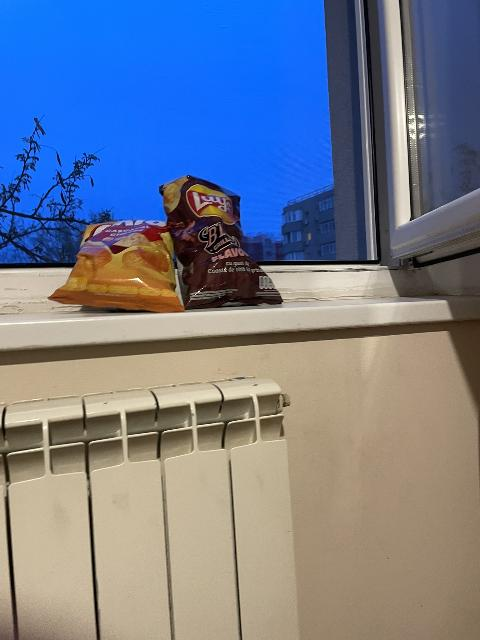Chio Cascaval 125g: (47, 220, 184, 312)
Lays Beef Grilled Ribs 125g: (161, 175, 282, 309)
